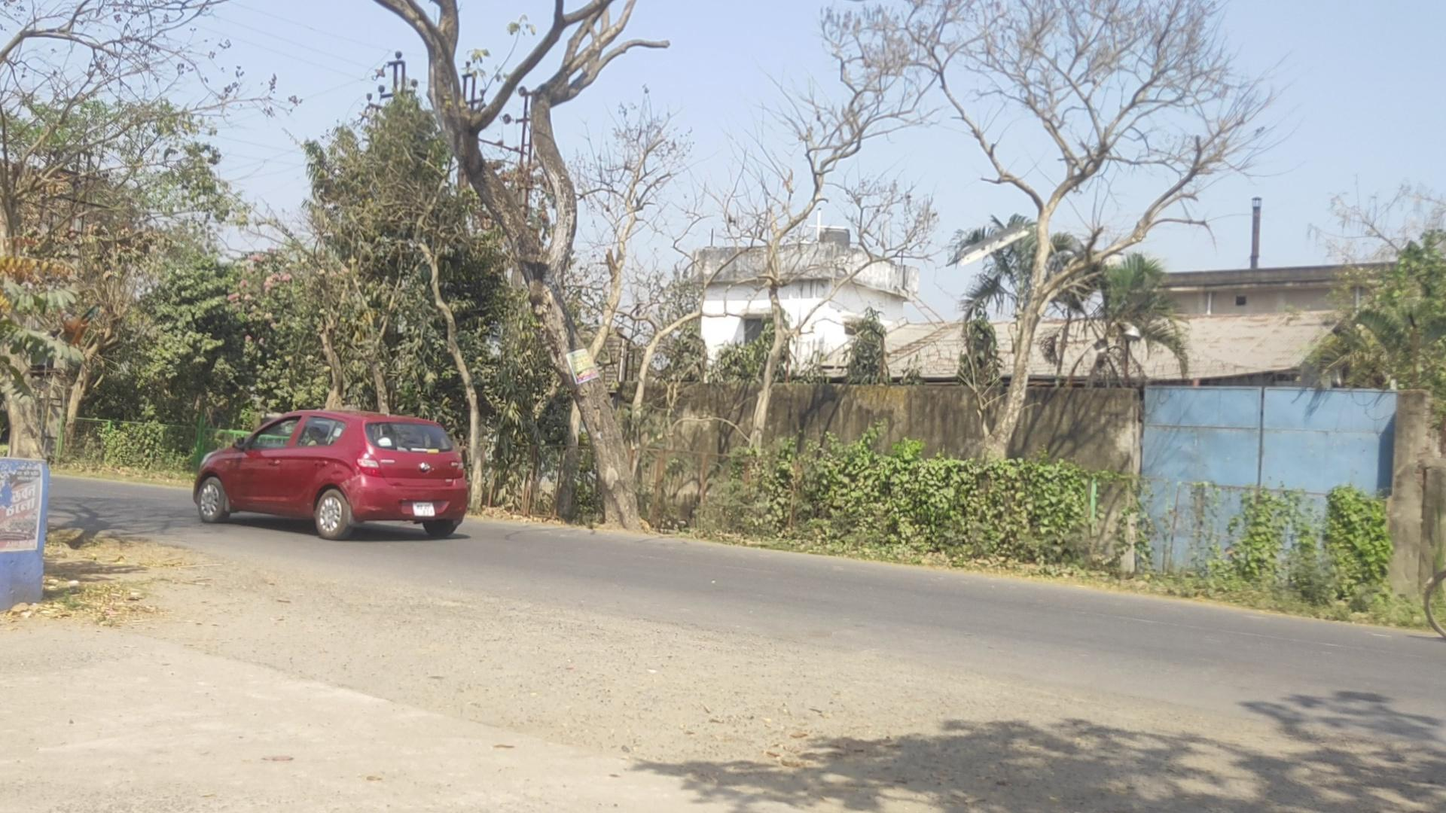car: (193, 410, 469, 541)
